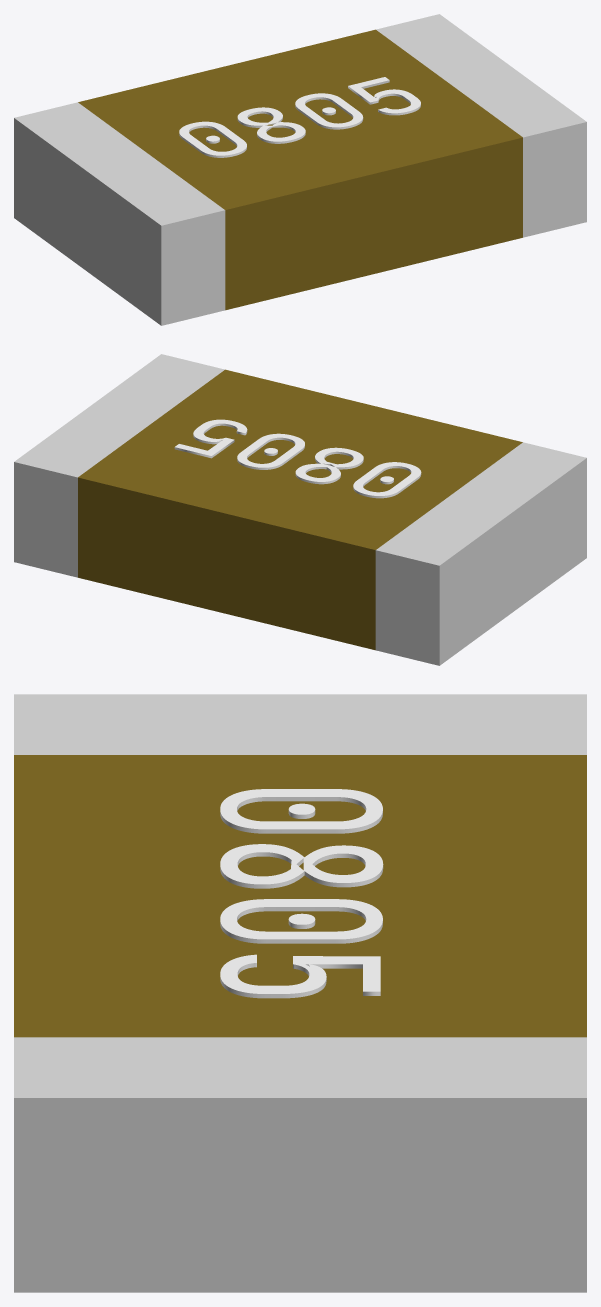
The model's file is __mod__.glb.
3 renders of one model, top to bottom at view 1: azimuth 30°, elevation 25°; view 2: azimuth 150°, elevation 25°; view 3: azimuth 270°, elevation 25°, orthographic. The views are drawn at different scales.
Parts seen in each view (by area): view 1: Plane; view 2: Plane; view 3: Plane.
Boxes of the visible parts, box(x1,y1,x2,y2) form: Plane: box(14, 14, 586, 325); Plane: box(14, 354, 586, 665); Plane: box(14, 694, 586, 1292).
Size of the model in its own units: 0.002 by 0.00046 by 0.0012.
